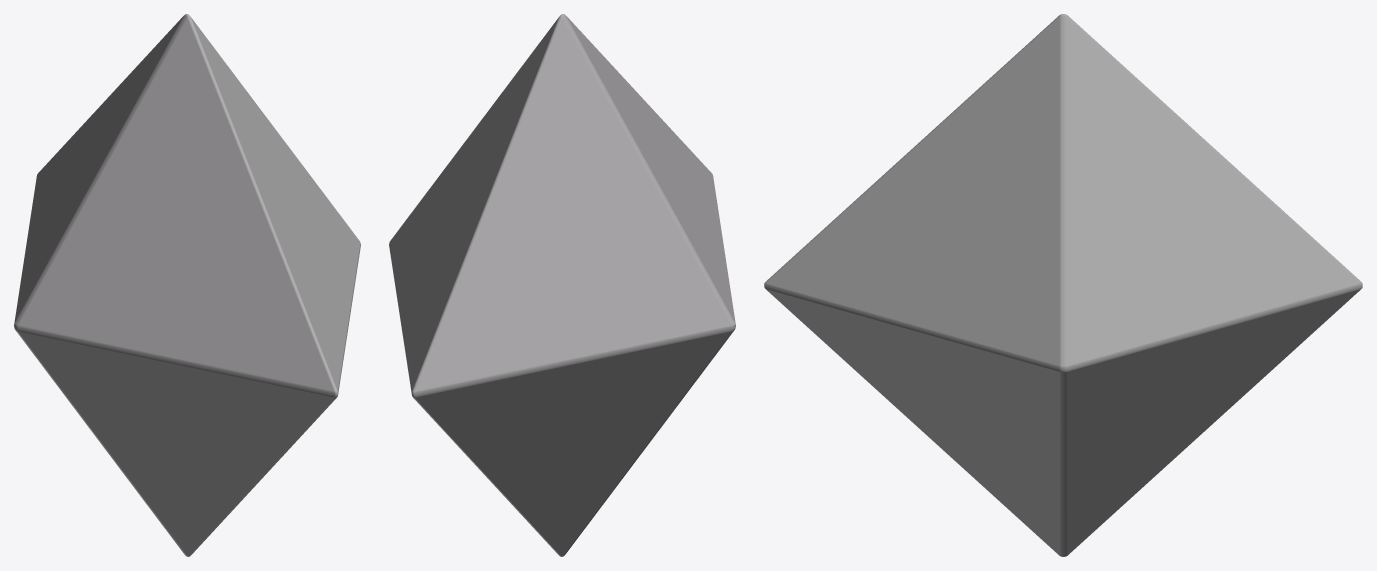
The model's file is diamond.fbx.
3 renders of one model, left to right at view 1: azimuth 30°, elevation 25°; view 2: azimuth 150°, elevation 25°; view 3: azimuth 270°, elevation 25°, orthographic.
Parts seen in each view (by area): view 1: node_id45; view 2: node_id45; view 3: node_id45.
Boxes of the visible parts, x1,y1,x2,y2 form: node_id45: (14, 14, 360, 556); node_id45: (389, 14, 735, 556); node_id45: (764, 14, 1362, 556).
Bounding box in the file's own units: 0.3406 × 0.512 × 0.512.
Materials: 1 (1 with a texture image).
